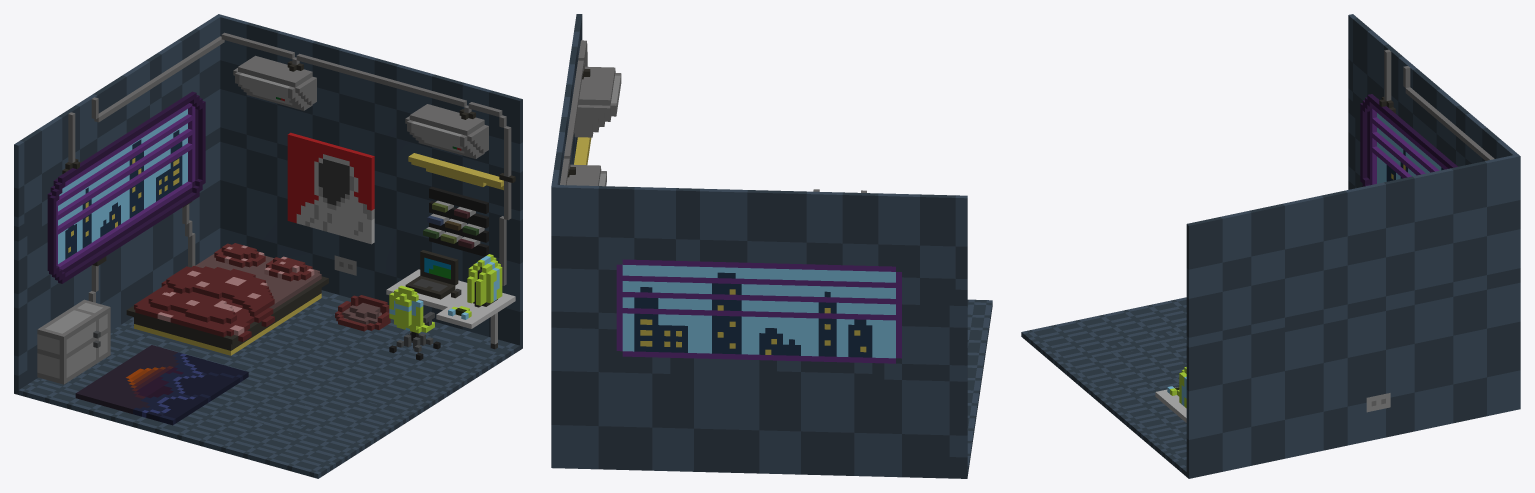
Rendered from room_cyberpunk.glb.
3 views of the same model, side by side, from view 1: azimuth 30°, elevation 25°; view 2: azimuth 150°, elevation 25°; view 3: azimuth 270°, elevation 25° (orthographic). The views are drawn at different scales.
Visible parts, largest first — view 1: palette__geom; view 2: palette__geom; view 3: palette__geom.
Part boxes in pixels (left/top/right/bottom): palette__geom: left=14, top=14, right=522, bottom=478; palette__geom: left=551, top=14, right=992, bottom=478; palette__geom: left=1021, top=14, right=1520, bottom=478.
Bounding box in the file's own units: 134 × 74.33 × 133.
Materials: 1 (1 with a texture image).
